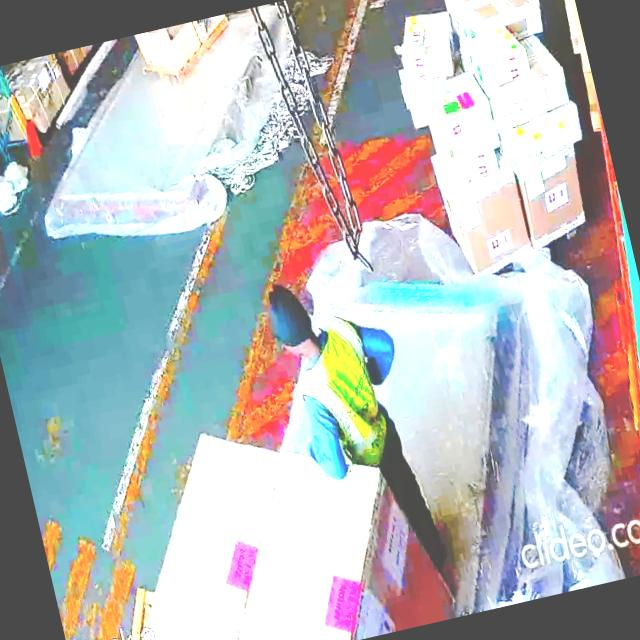Box: (101, 427, 294, 640), (250, 426, 420, 640), (438, 169, 534, 268), (514, 154, 591, 246), (426, 70, 496, 140), (391, 5, 454, 81), (444, 0, 542, 42), (498, 74, 576, 124), (508, 112, 584, 160), (468, 26, 523, 80)
